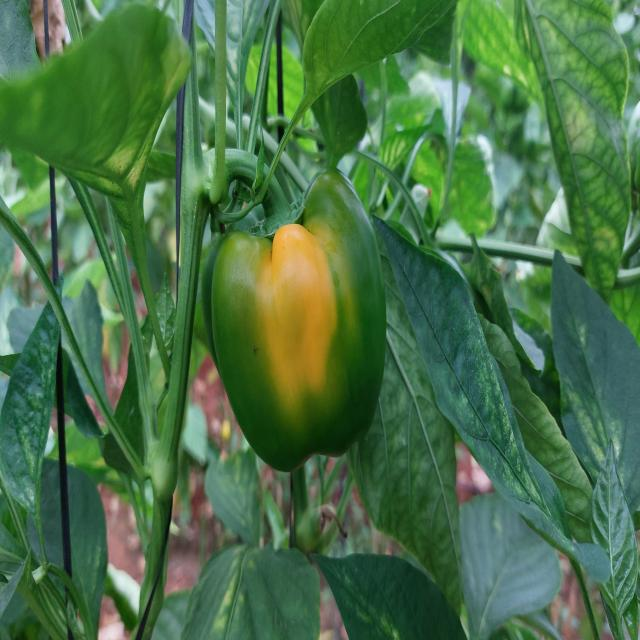GreenishYellow--Can-be-Harvested: (191, 138, 404, 484)
